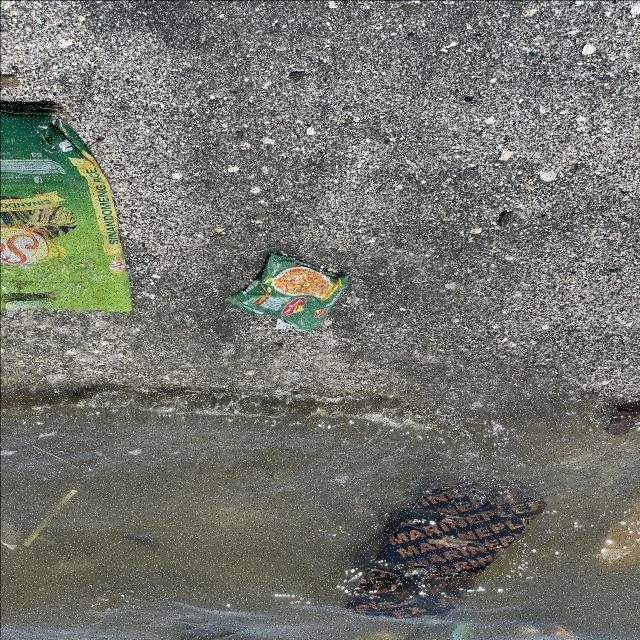plastic_waste: (1, 109, 131, 313), (223, 253, 348, 331)
